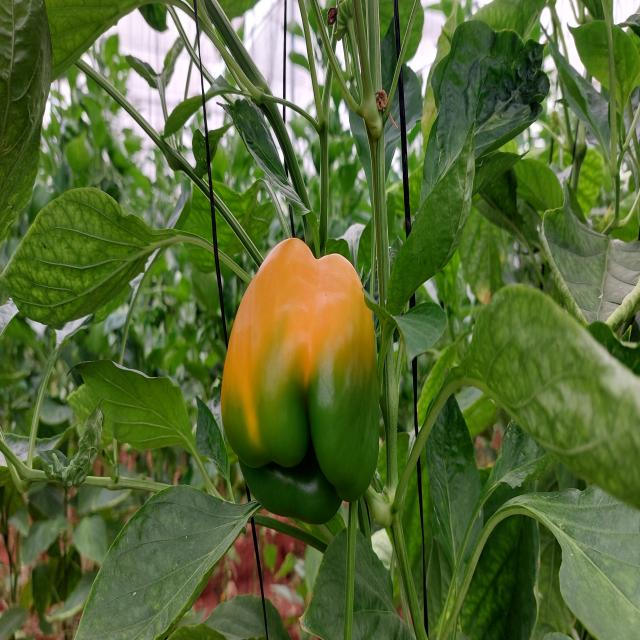GreenishYellow--Can-be-Harvested: (230, 184, 393, 546)
